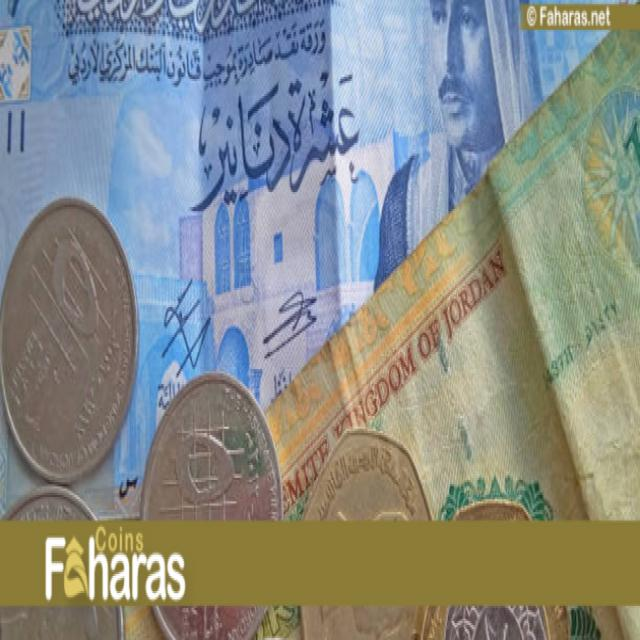1-dinar: (261, 6, 640, 640)
10-coins: (0, 484, 122, 640)
10-dinar: (0, 0, 612, 506)
25-coins: (293, 429, 437, 640)
5-coins: (0, 194, 139, 484), (138, 371, 283, 640)
50-coins: (432, 500, 567, 640)
